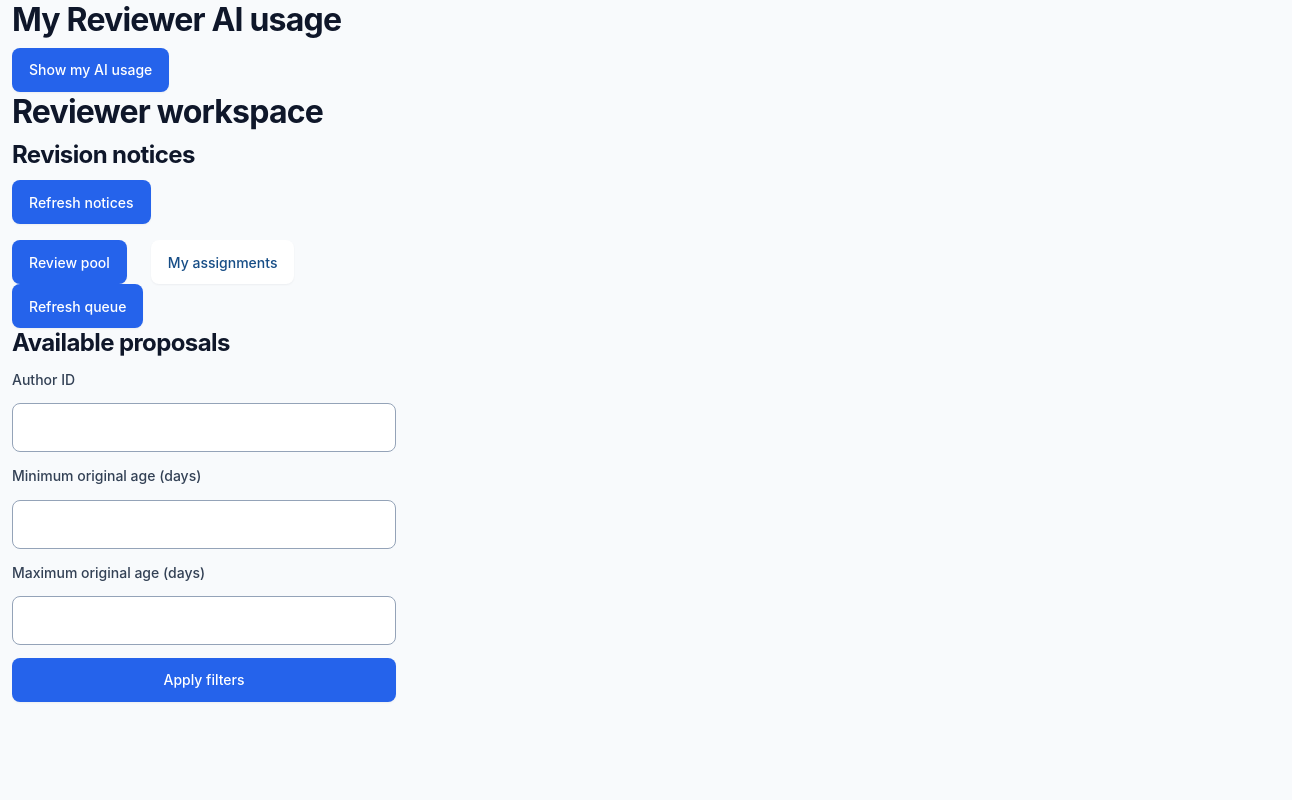
Reviewer usage › actively clears already-visible aggregates when another workspace request loses access, with no usage fetch pending
The width and height of the screenshot is (1292, 800).
Click the button "Show my AI usage" at [91, 70], box x1=12 y1=48 x2=169 y2=92
(page scrolled)
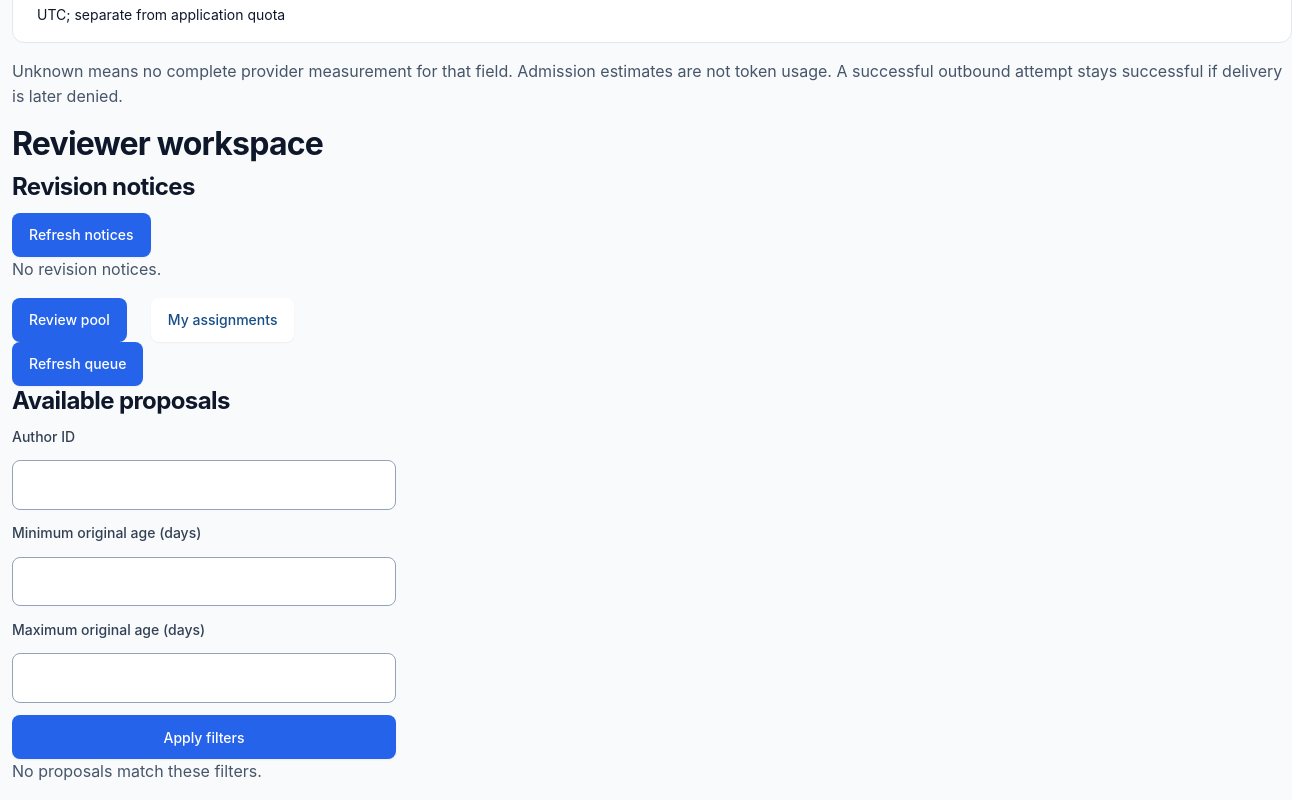
Click the button "Apply filters" at [204, 737], box x1=12 y1=715 x2=396 y2=759
(page scrolled)
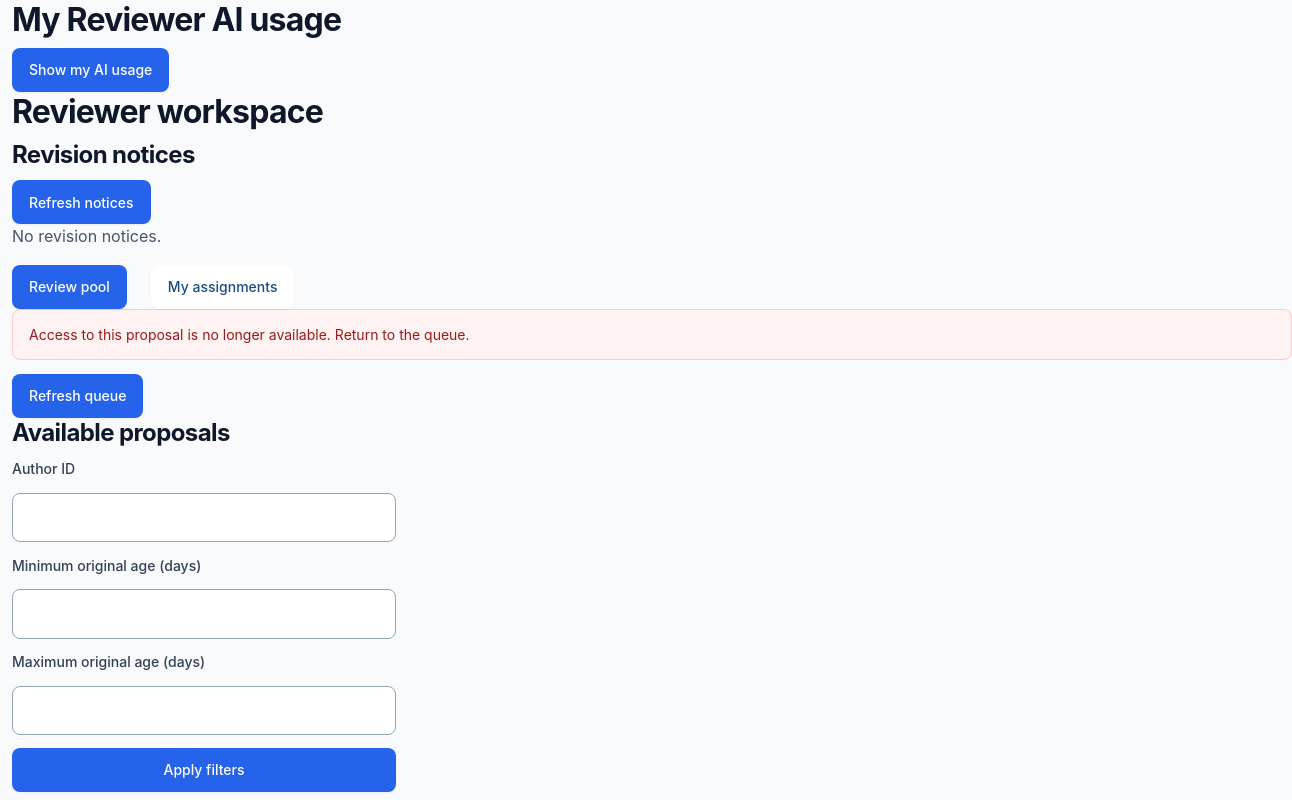
Now the text "Access to this proposal is no longer available. Return to the queue." is shown, box x1=12 y1=309 x2=1291 y2=360
Click the button "Show my AI usage" at [91, 70], box x1=12 y1=48 x2=169 y2=92
(page scrolled)
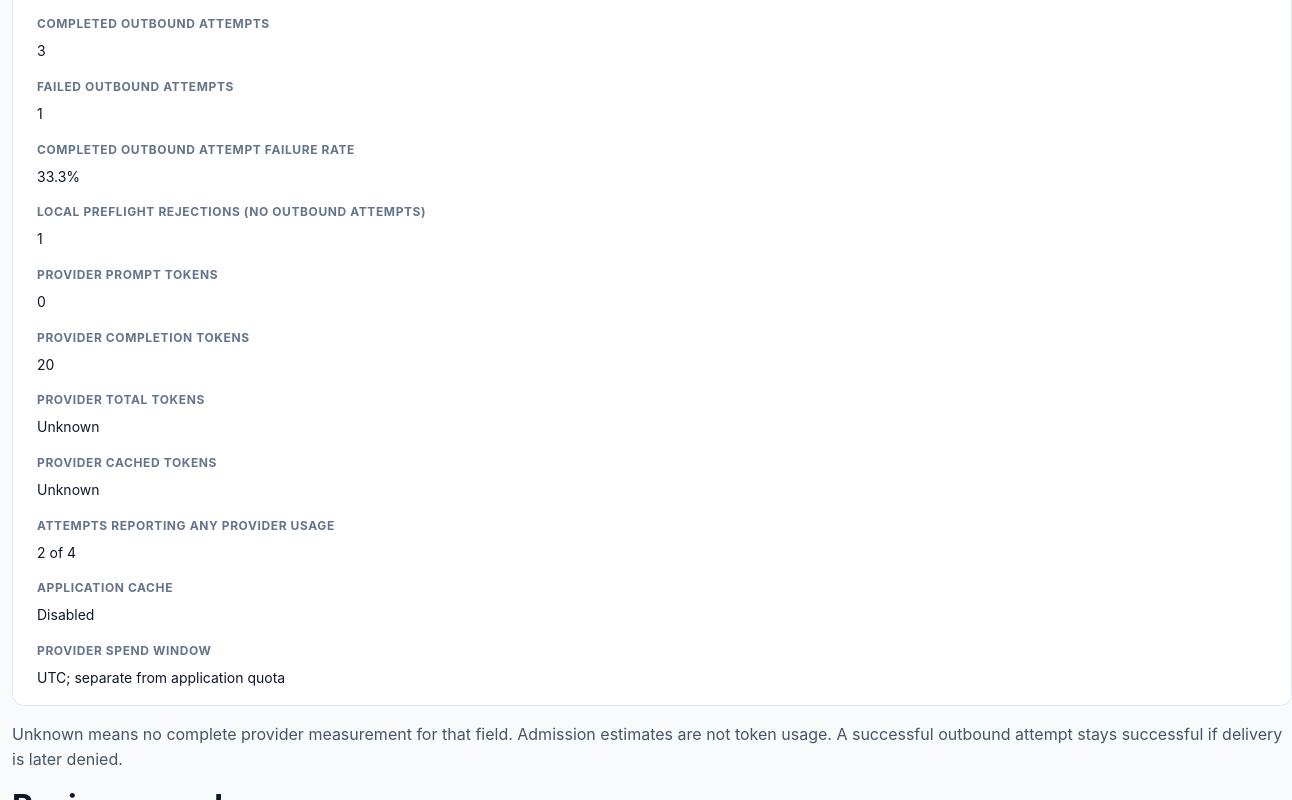
Now the text "Provider total tokens" is shown, box x1=37 y1=392 x2=205 y2=407
